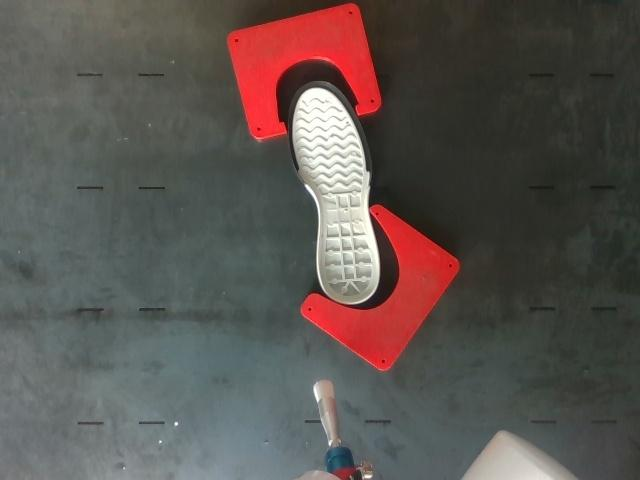shoes: (289, 82, 379, 305)
